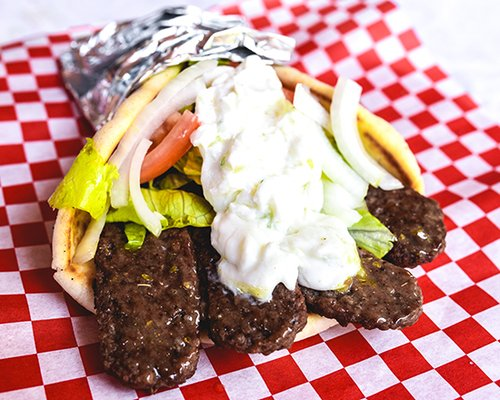pizza: (139, 109, 201, 184)
